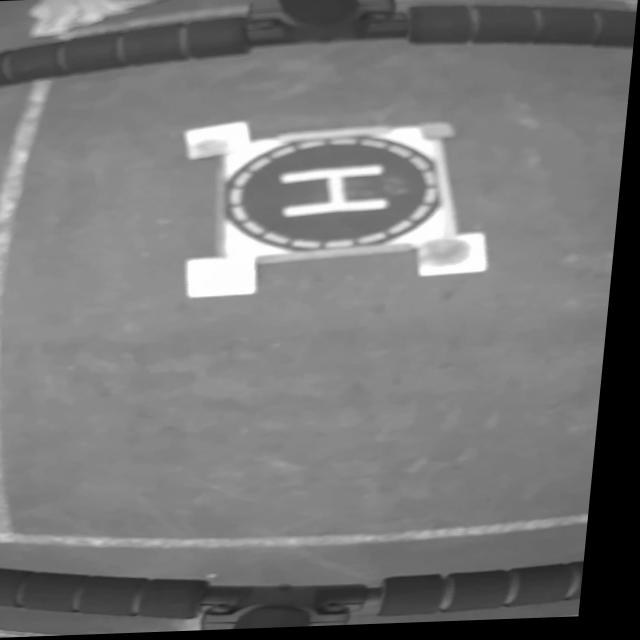Helipad: (286, 166, 391, 219)
